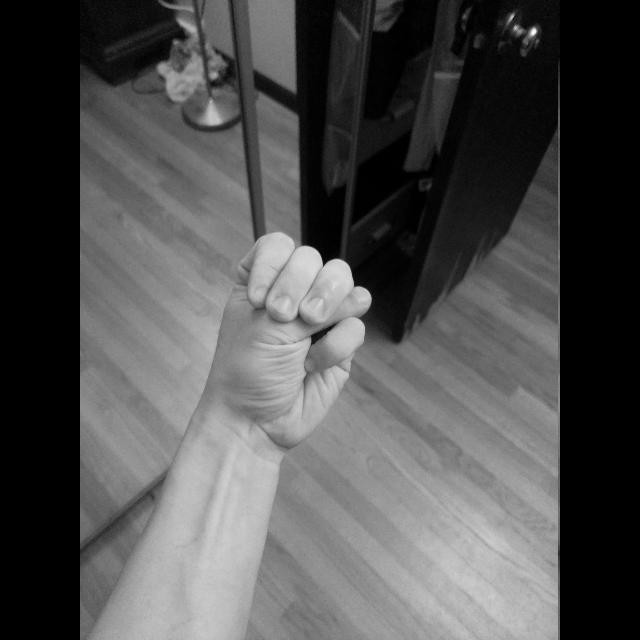M: (207, 227, 377, 455)
